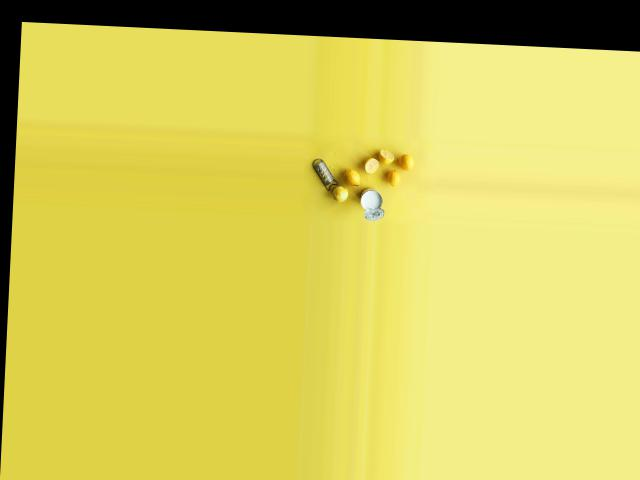lemon: (333, 182, 351, 203)
